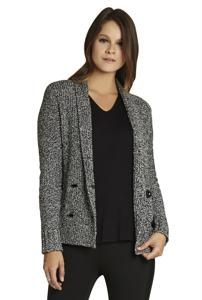S_cardigan sweater: (31, 72, 172, 265)
